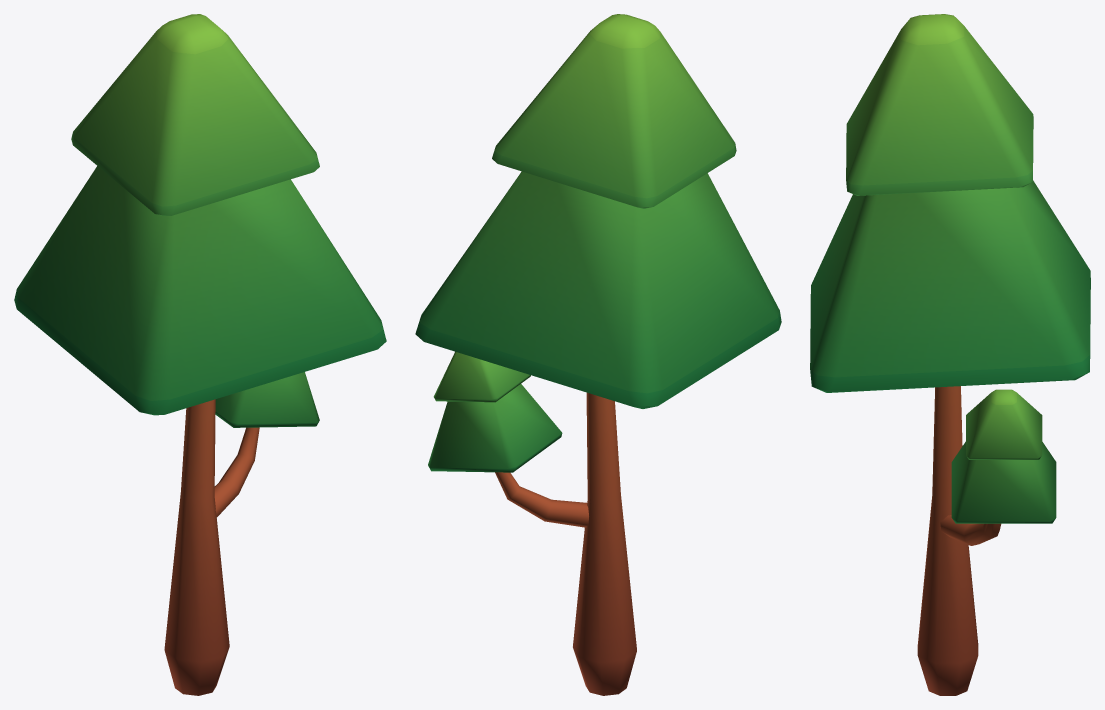
The model's file is Tree_4_A.glb.
The picture shows the model from 3 angles, left to right: view 1: azimuth 30°, elevation 25°; view 2: azimuth 150°, elevation 25°; view 3: azimuth 270°, elevation 25°; orthographic projection.
Parts seen in each view (by area): view 1: Tree_4_A_Color1; view 2: Tree_4_A_Color1; view 3: Tree_4_A_Color1.
Boxes of the visible parts, <box> form: Tree_4_A_Color1: <box>14,14,386,695</box>; Tree_4_A_Color1: <box>415,14,781,695</box>; Tree_4_A_Color1: <box>810,14,1090,695</box>.
Size of the model in its own units: 2.01 by 5.27 by 2.
1 material, 1 textured.
